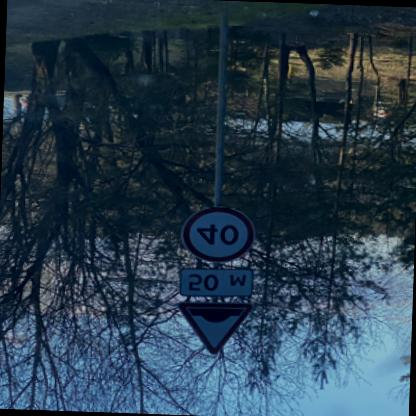speedlimit: (178, 206, 252, 266)
